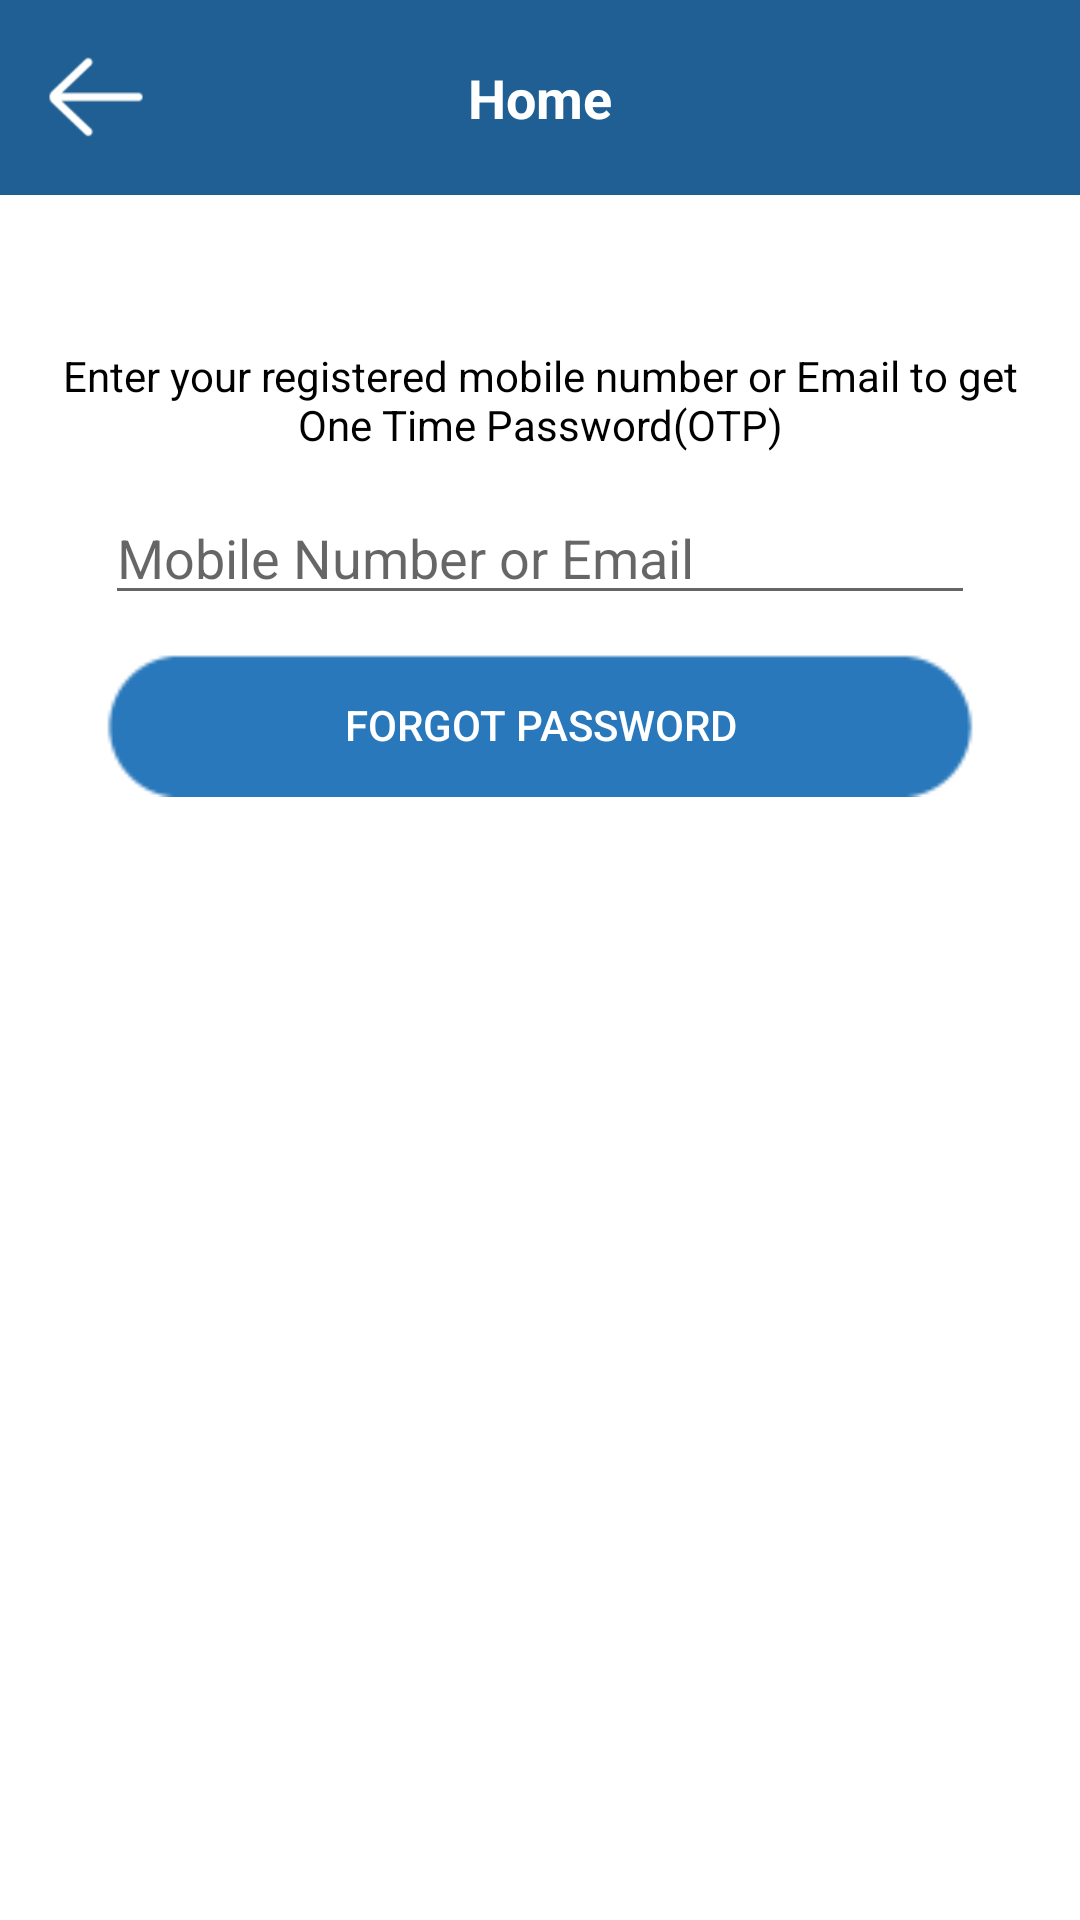

Point at icon controls on the screen. Image size 1080 x 1920, points as (x=x, y=y).
back: (x=96, y=97)
